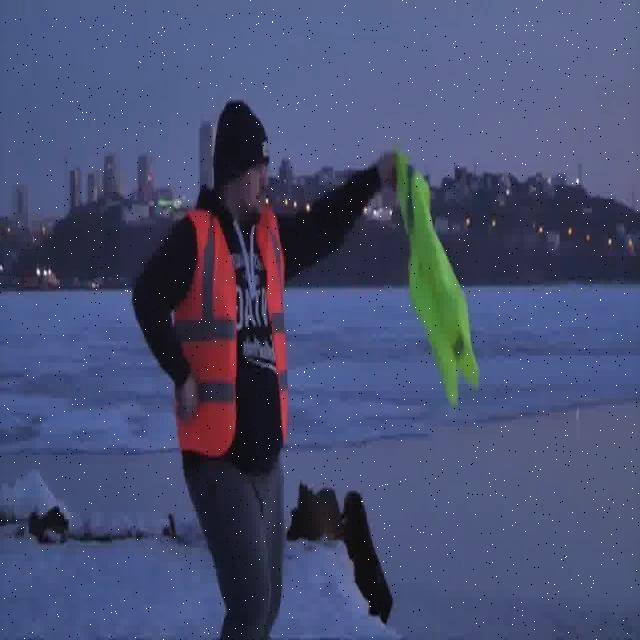Vest: (166, 202, 294, 458)
